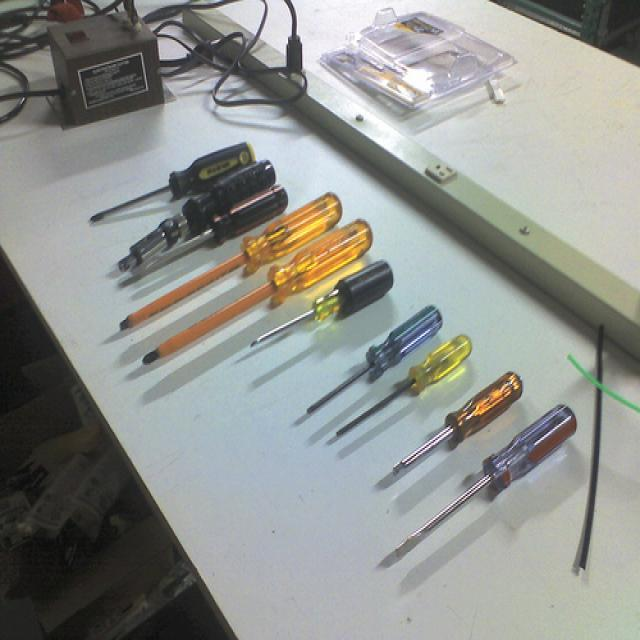screwdriver: (110, 190, 352, 340), (139, 212, 372, 364), (387, 400, 583, 569), (331, 329, 478, 444), (75, 135, 266, 223), (301, 302, 450, 414), (389, 367, 528, 479), (251, 254, 398, 351)
